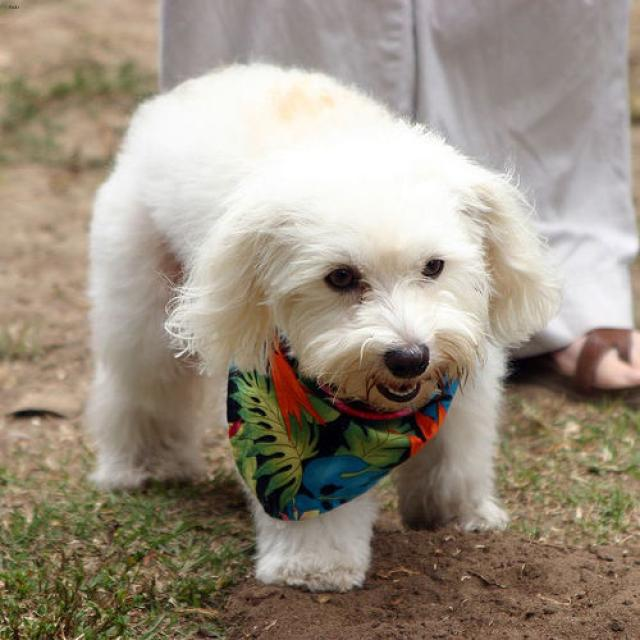dog-havanese: (72, 50, 571, 594)
